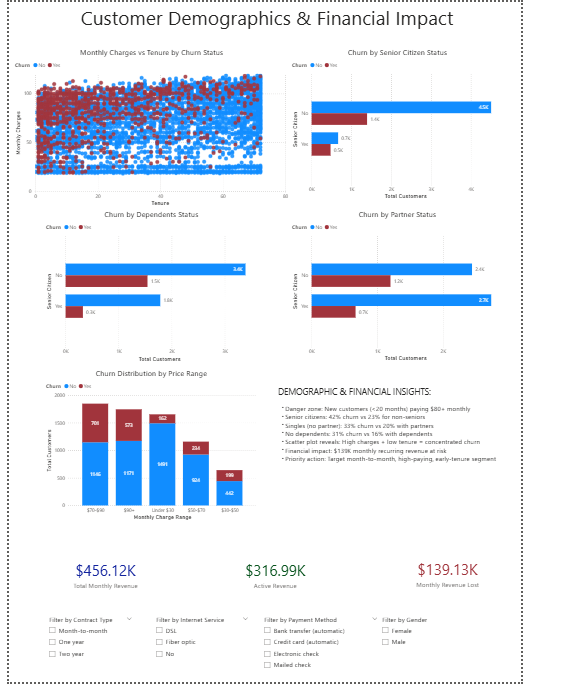

Layout of this report page (visuals, bound fields, positions):
{"tool":"powerbi","page":{"name":"Demographics & Financial","canvas":[1280,1700],"ordinal":2},"visuals":[{"type":"textbox","box":[9.6,0,1270.6,75.4],"z":0},{"type":"scatterChart","title":"Monthly Charges vs Tenure by Churn Status","fields":{"X":["telco_customer_churn.tenure"],"Y":["telco_customer_churn.MonthlyCharges"],"Series":["telco_customer_churn.Churn"]},"box":[10.7,113.4,693,404.3],"z":1000},{"type":"clusteredBarChart","title":"Churn by Senior Citizen Status","fields":{"Category":["telco_customer_churn.SeniorCitizen"],"Y":["telco_customer_churn.Total Customers"],"Series":["telco_customer_churn.Churn"]},"box":[702.7,112.3,537.4,386.6],"z":2000},{"type":"clusteredBarChart","title":"Churn by Partner Status","fields":{"Y":["telco_customer_churn.Total Customers"],"Series":["telco_customer_churn.Churn"],"Category":["telco_customer_churn.Partner"]},"box":[702.7,518.2,537.4,386.6],"z":3000},{"type":"clusteredBarChart","title":"Churn by Dependents Status","fields":{"Y":["telco_customer_churn.Total Customers"],"Series":["telco_customer_churn.Churn"],"Category":["telco_customer_churn.Dependents"]},"box":[87.7,517.6,536.9,387.2],"z":4000},{"type":"columnChart","title":"Churn Distribution by Price Range","fields":{"Category":["telco_customer_churn.Monthly Charge Range"],"Y":["telco_customer_churn.Total Customers"],"Series":["telco_customer_churn.Churn"]},"box":[88,915,537,387],"z":5000},{"type":"card","fields":{"Values":["telco_customer_churn.Total Monthly Revenue"]},"box":[0,1350,483.3,161.7],"z":6000},{"type":"card","fields":{"Values":["telco_customer_churn.Active Revenue"]},"box":[443.3,1350,446.7,161.7],"z":7000},{"type":"card","fields":{"Values":["telco_customer_churn.Monthly Revenue Lost"]},"box":[911.7,1348.3,368.3,163.3],"z":8000},{"type":"slicer","fields":{"Values":["telco_customer_churn.Contract"]},"box":[88.3,1526.7,231.7,173.3],"z":9000},{"type":"slicer","fields":{"Values":["telco_customer_churn.InternetService"]},"box":[355,1526.7,255,161.7],"z":10000},{"type":"slicer","fields":{"Values":["telco_customer_churn.PaymentMethod"]},"box":[625,1526.7,308.3,160],"z":11000},{"type":"slicer","fields":{"Values":["telco_customer_churn.gender"]},"box":[920,1526.7,338.3,158.3],"z":12000},{"type":"textbox","box":[666.7,955,591.7,346.7],"z":12001}]}

Visuals, with their boxes on the page's 1280x1700 design canvas (x1, y1, x2, y2). These are canvas units, not pixel positions in the 561x687 screenshot, which may show the page scaled, cropped or inside an application window:
textbox: <box>10,0,1280,75</box>
"Monthly Charges vs Tenure by Churn Status" scatterChart: <box>11,113,704,518</box>
"Churn by Senior Citizen Status" clusteredBarChart: <box>703,112,1240,499</box>
"Churn by Partner Status" clusteredBarChart: <box>703,518,1240,905</box>
"Churn by Dependents Status" clusteredBarChart: <box>88,518,625,905</box>
"Churn Distribution by Price Range" columnChart: <box>88,915,625,1302</box>
card - telco_customer_churn.Total Monthly Revenue: <box>0,1350,483,1512</box>
card - telco_customer_churn.Active Revenue: <box>443,1350,890,1512</box>
card - telco_customer_churn.Monthly Revenue Lost: <box>912,1348,1280,1512</box>
slicer - telco_customer_churn.Contract: <box>88,1527,320,1700</box>
slicer - telco_customer_churn.InternetService: <box>355,1527,610,1688</box>
slicer - telco_customer_churn.PaymentMethod: <box>625,1527,933,1687</box>
slicer - telco_customer_churn.gender: <box>920,1527,1258,1685</box>
textbox: <box>667,955,1258,1302</box>
